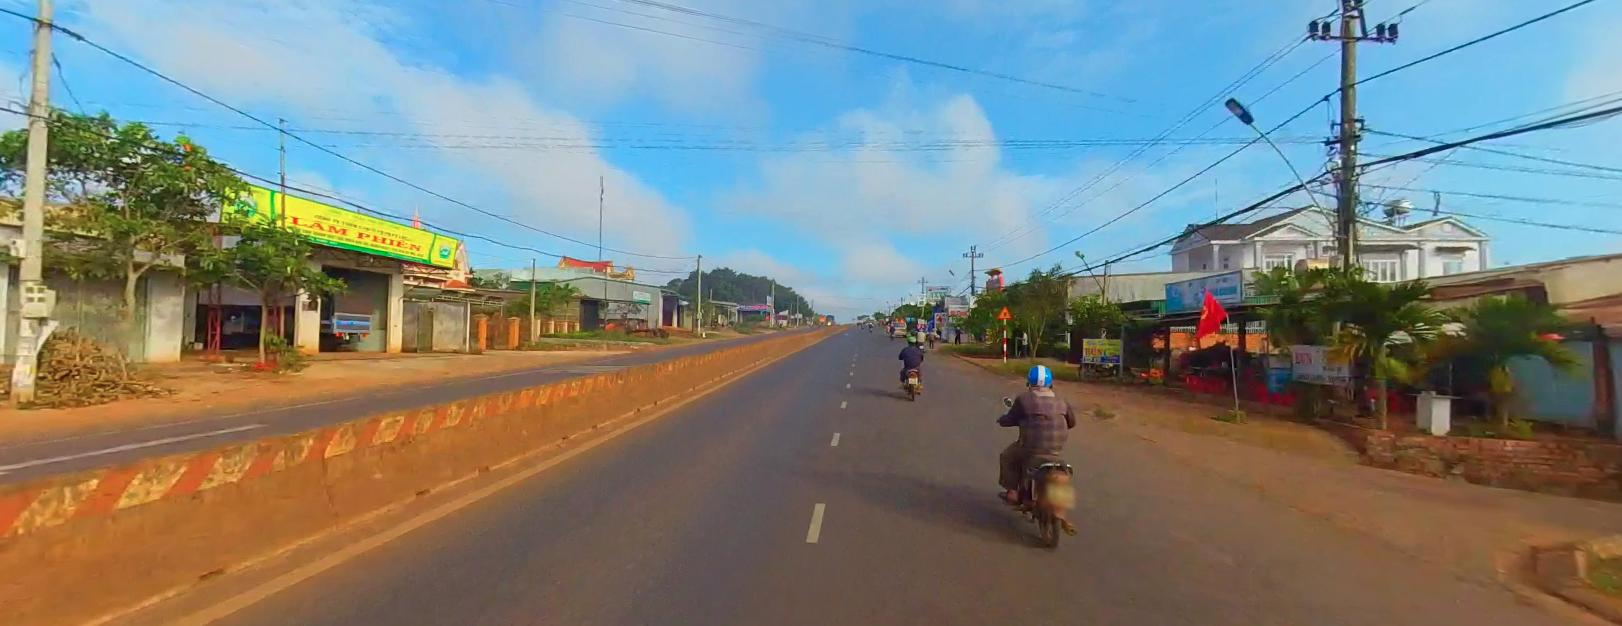Nguy hiem: (996, 304, 1013, 318), (997, 303, 1012, 317)
